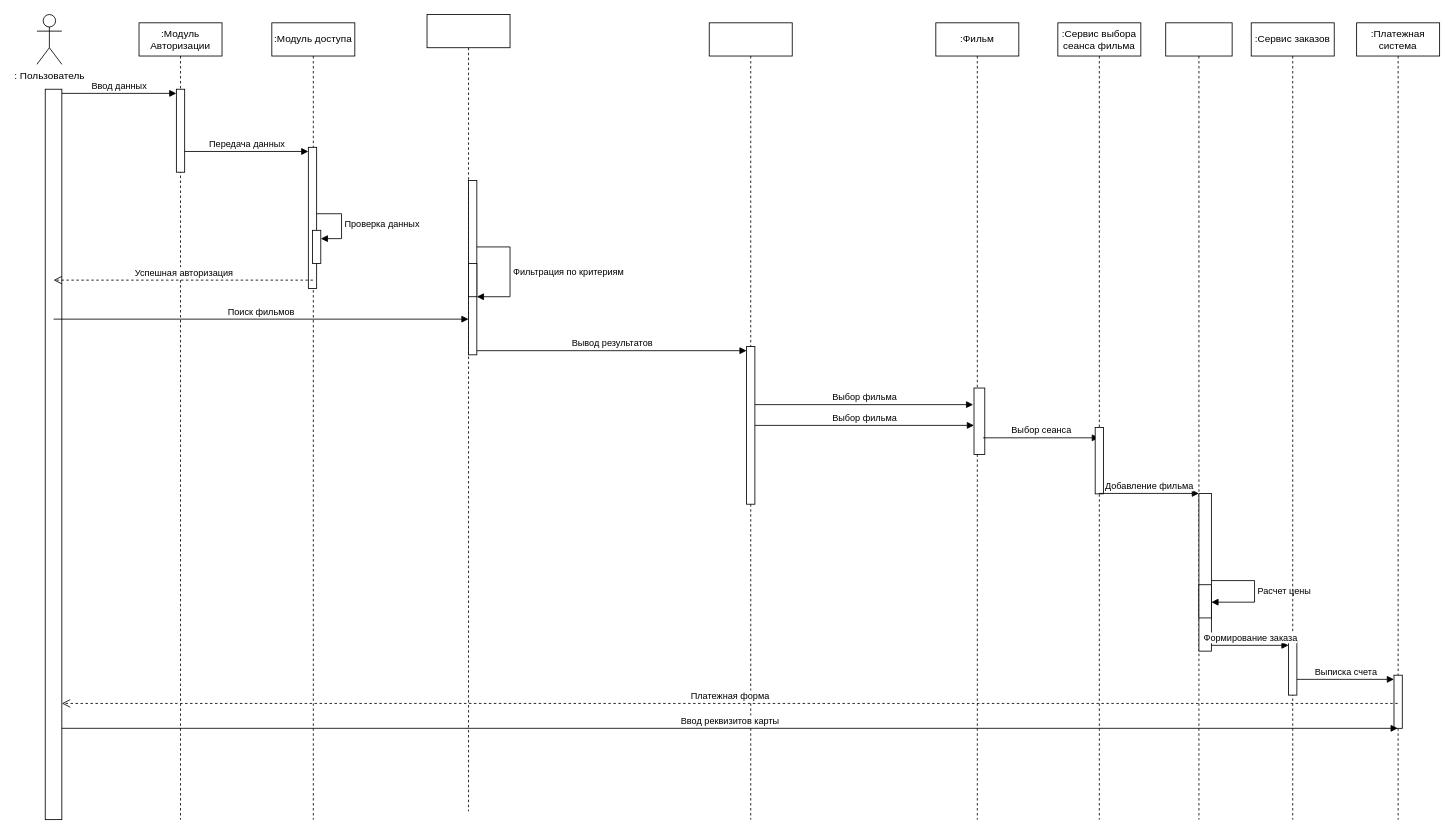
Image size: 1454x834. Some labels were removed from this diagram. Each missing label, with the box of its shape:
:Каталог фильмов: (426, 14, 510, 811)
:Корзина: (1165, 22, 1232, 820)
:Сервис поиска: (708, 22, 792, 820)
